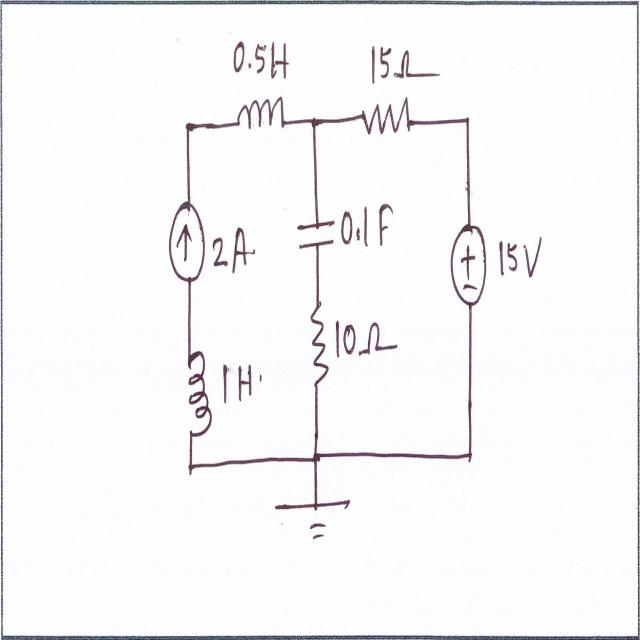capacitor: (292, 212, 336, 258)
current_source: (164, 196, 212, 299)
ground: (270, 490, 361, 548)
inductor: (178, 349, 213, 445), (232, 94, 285, 146)
resistor: (303, 290, 332, 397), (357, 96, 414, 144)
voltage_source: (446, 214, 489, 314)
